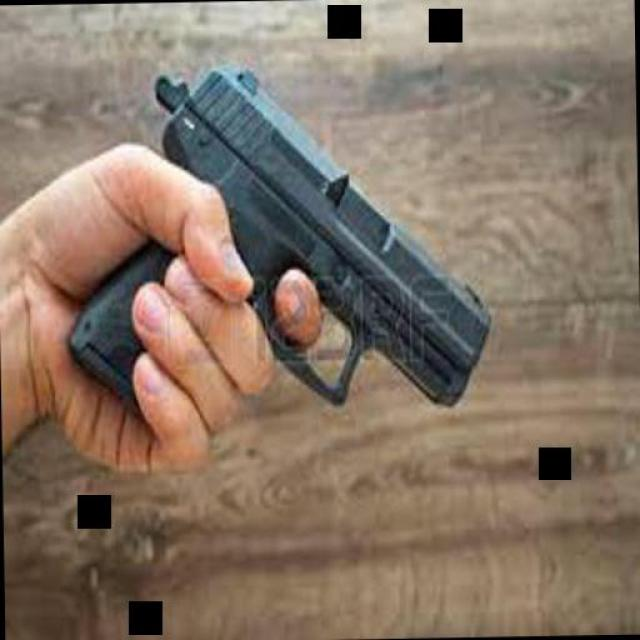gun: (58, 59, 488, 419)
